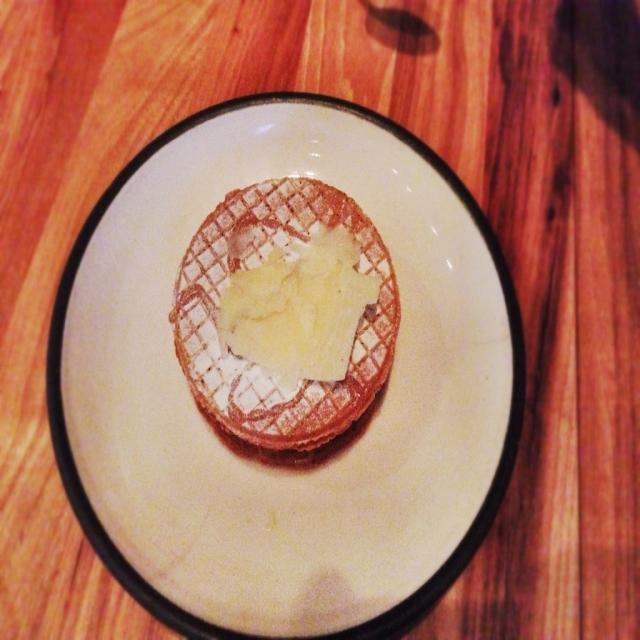non-organic waste: (38, 83, 524, 640)
